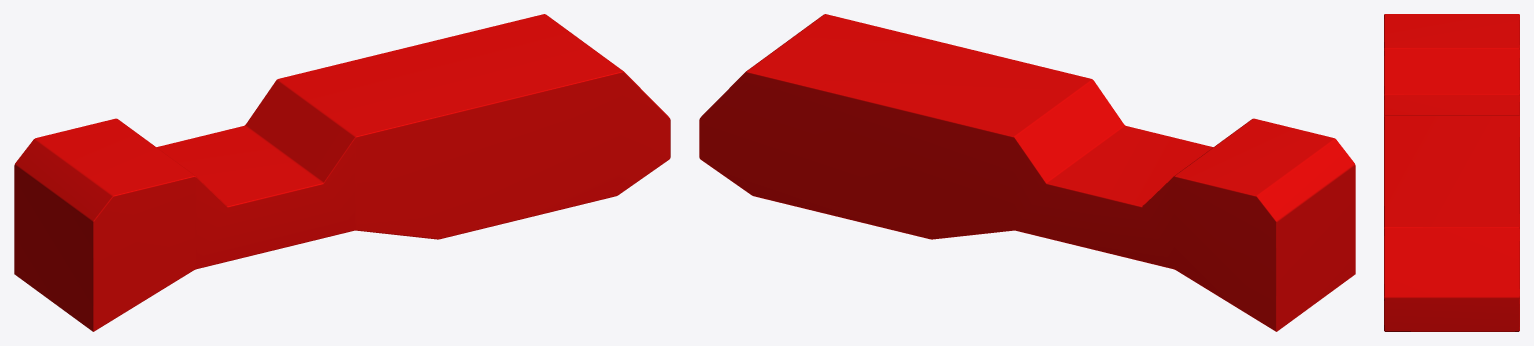
File: Door_Lock_Up.fbx
3 renders of one model, left to right at view 1: azimuth 30°, elevation 25°; view 2: azimuth 150°, elevation 25°; view 3: azimuth 270°, elevation 25°, orthographic. The views are drawn at different scales.
Parts seen in each view (by area): view 1: Door_Lock_Up; view 2: Door_Lock_Up; view 3: Door_Lock_Up.
Part boxes in pixels (left/top/right/bottom): Door_Lock_Up: left=14, top=14, right=670, bottom=331; Door_Lock_Up: left=699, top=14, right=1355, bottom=331; Door_Lock_Up: left=1384, top=14, right=1519, bottom=331.
Bounding box in the file's own units: 437 × 95.19 × 104.
